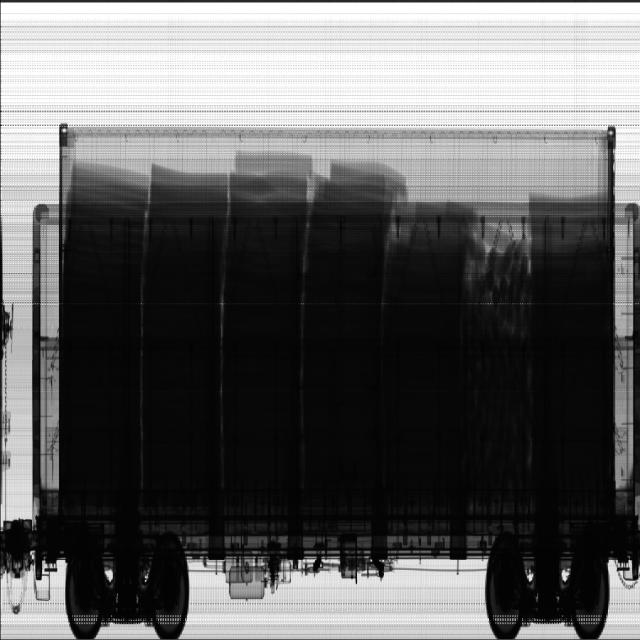fabrics: (62, 149, 609, 500)
